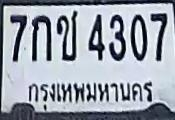0: (130, 14, 147, 61)
3: (108, 14, 126, 61)
4: (88, 13, 104, 60)
7: (150, 13, 167, 61), (9, 14, 26, 61)
A01: (31, 14, 51, 61)
A10: (56, 10, 78, 60)
BKK: (24, 76, 154, 113)
